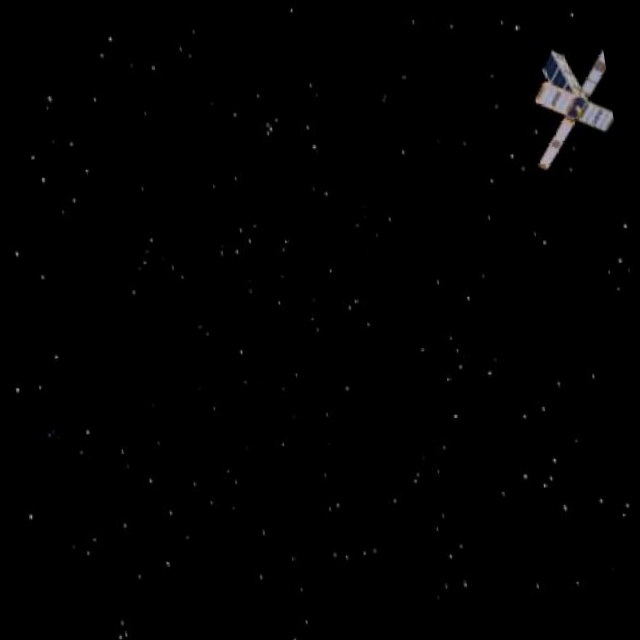medium_debris: (515, 26, 620, 174)
